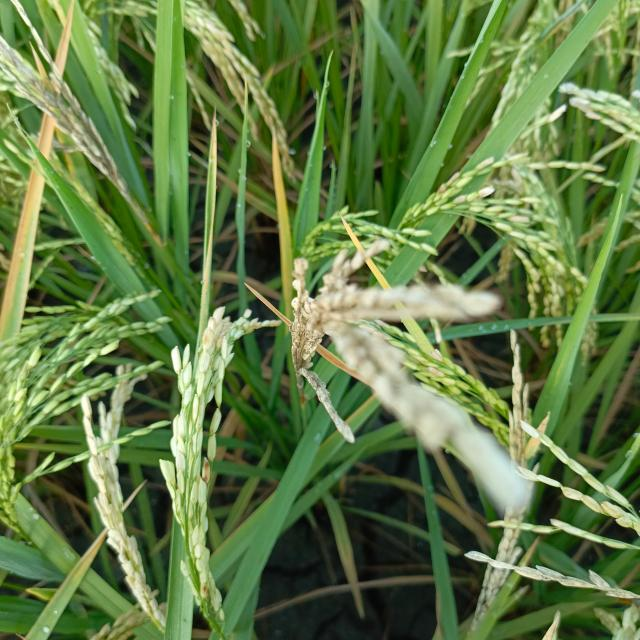Hawar Daun Bakteri: (8, 182, 41, 298), (241, 277, 285, 320), (266, 138, 289, 214), (56, 3, 74, 72), (33, 117, 55, 148), (322, 344, 342, 378)
